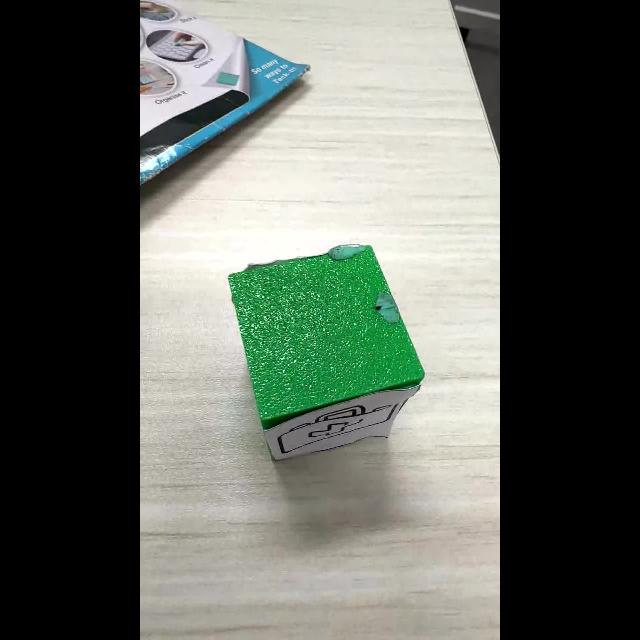Medkit: (278, 402, 399, 454)
